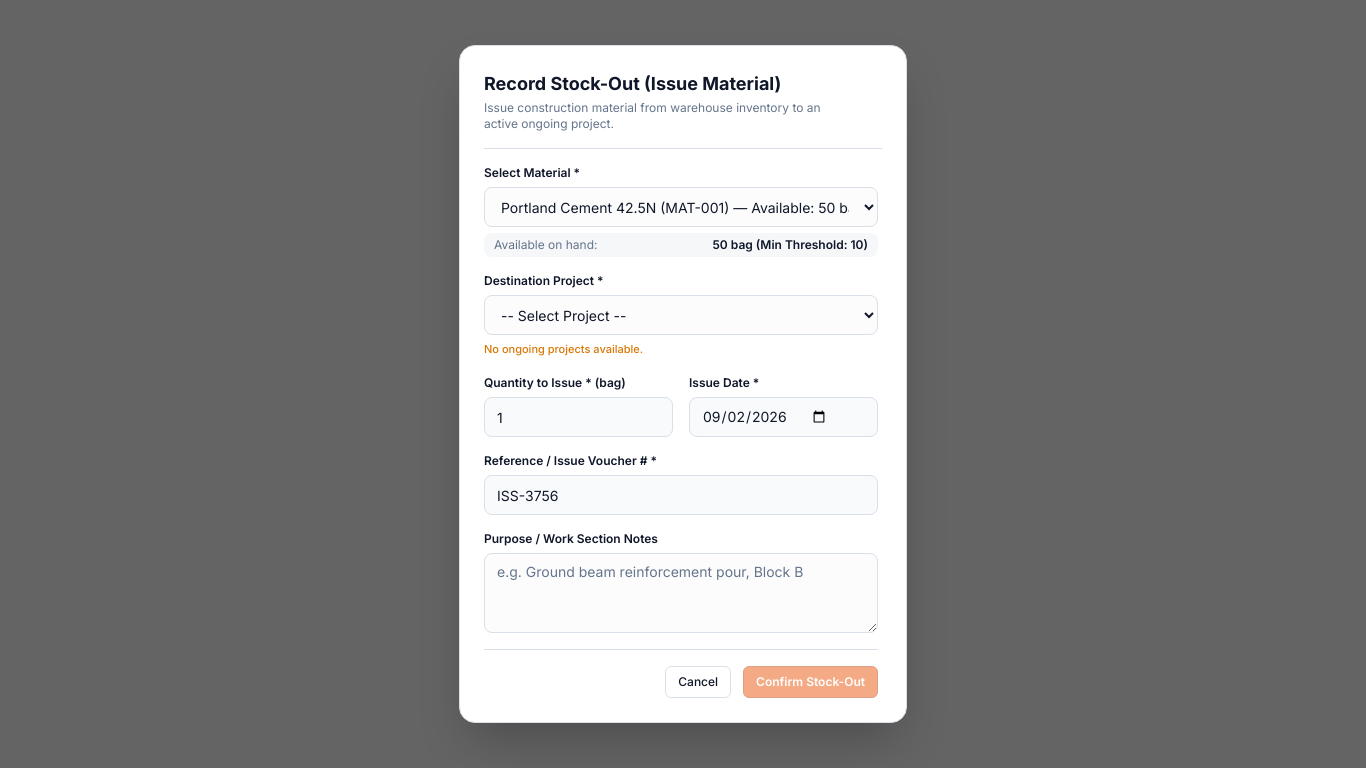
Test: StockOutDialog › shows an error and blocks submit when quantity exceeds available stock
This screenshot has width=1366, height=768.
Replace the text in the number field with placeholder "e.g. 50" with "80": (578, 417) [484,397,673,437]
(page scrolled)
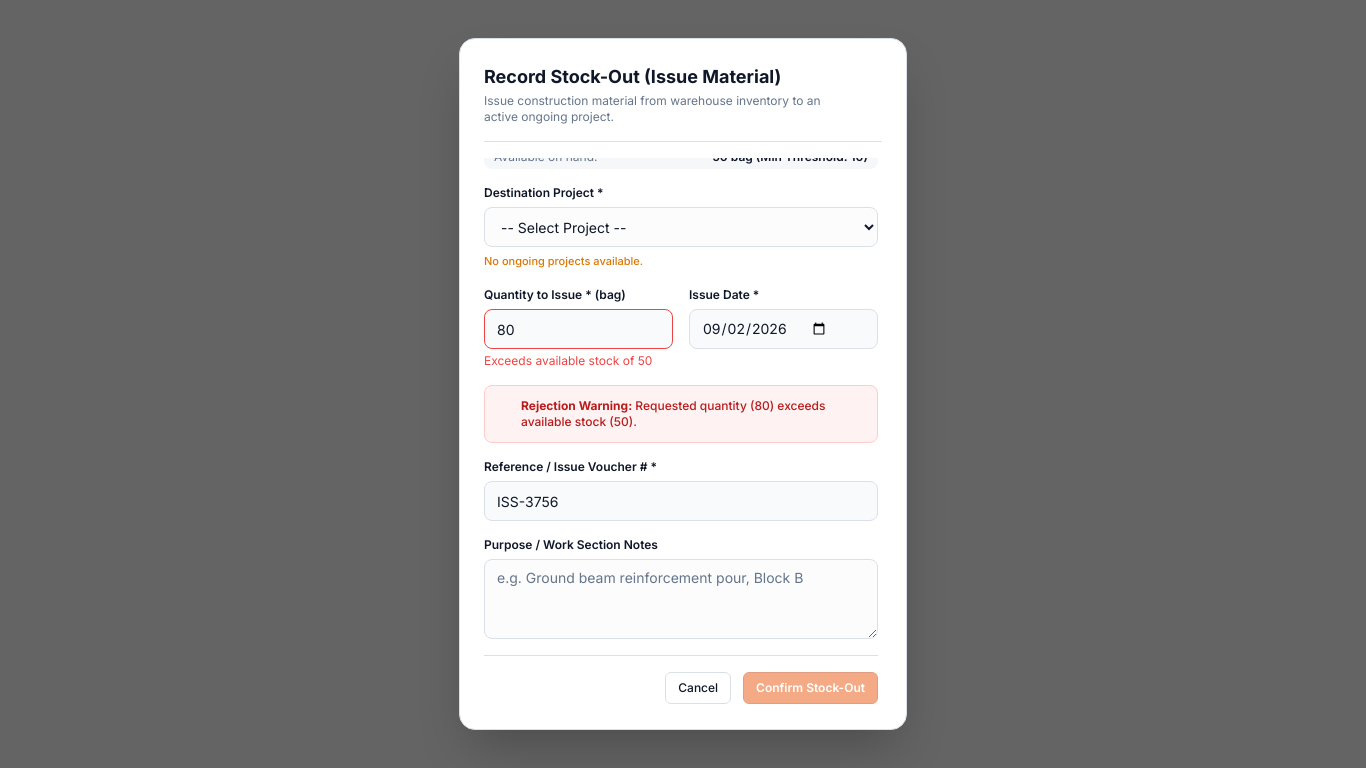
Expected: the text "Exceeds available stock of 50" is shown, [484,353,673,369]
Expected: the text "Rejection Warning:" is shown, [521,398,632,413]
Expected: the text "exceeds available stock (50)" is shown, [521,398,865,430]
